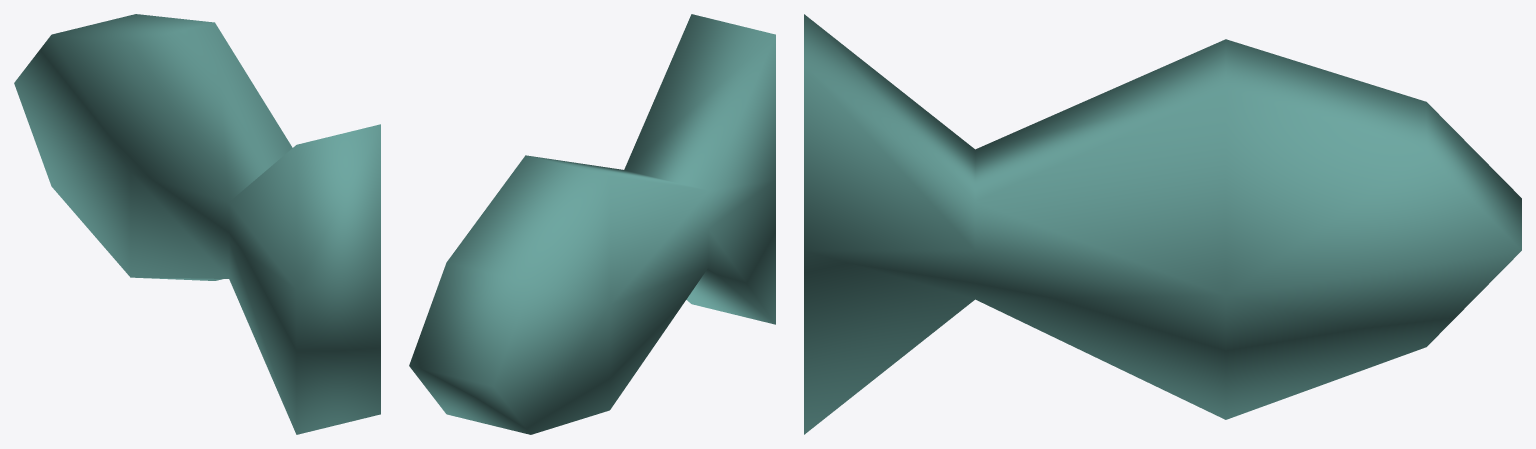
Rendered from POisson.fbx.
3 renders of one model, left to right at view 1: azimuth 30°, elevation 25°; view 2: azimuth 150°, elevation 25°; view 3: azimuth 270°, elevation 25°, orthographic. The views are drawn at different scales.
Parts seen in each view (by area): view 1: Poissonerie.002; view 2: Poissonerie.002; view 3: Poissonerie.002.
Boxes of the visible parts, x1,y1,x2,y2 form: Poissonerie.002: (14, 14, 380, 434); Poissonerie.002: (409, 14, 775, 434); Poissonerie.002: (804, 14, 1521, 434).
Size of the model in its own units: 27.46 by 51.18 by 90.31.
